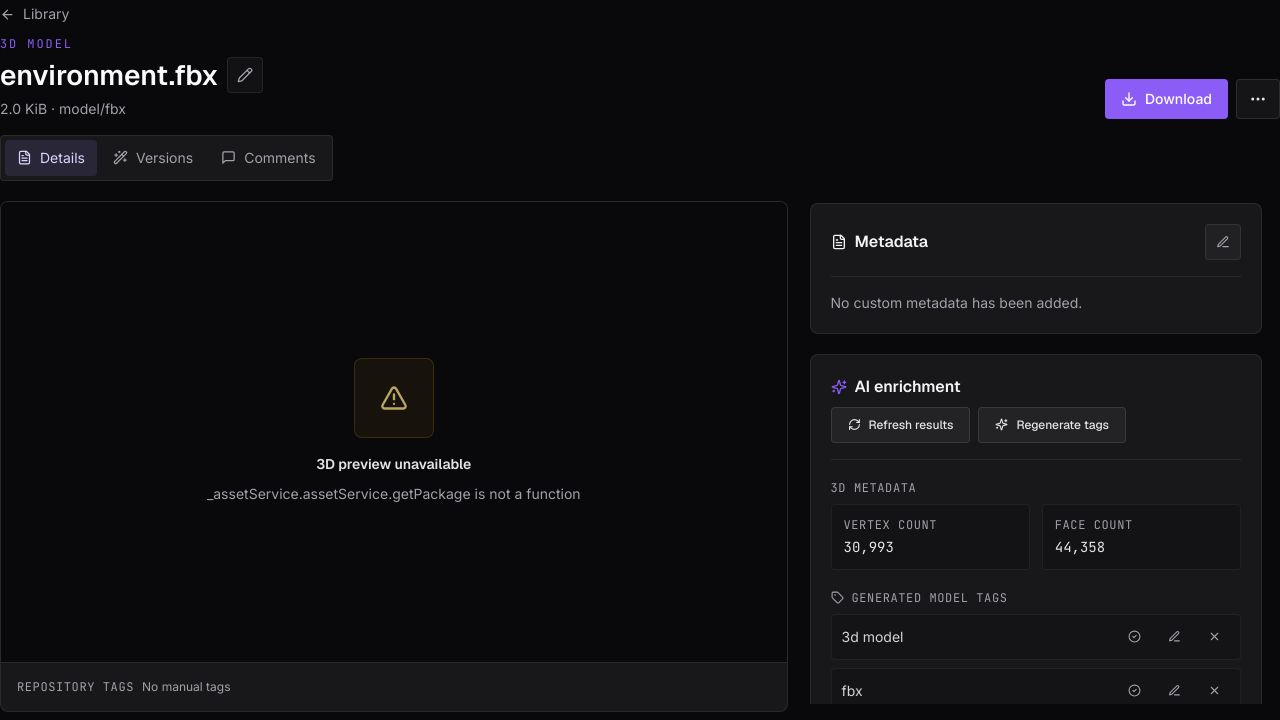
manager deletion requires confirmation; cancel sends nothing and failure stays on the asset
This screenshot has width=1280, height=720.
Click the button named "More actions": click(1258, 98) [1236,78,1279,118]
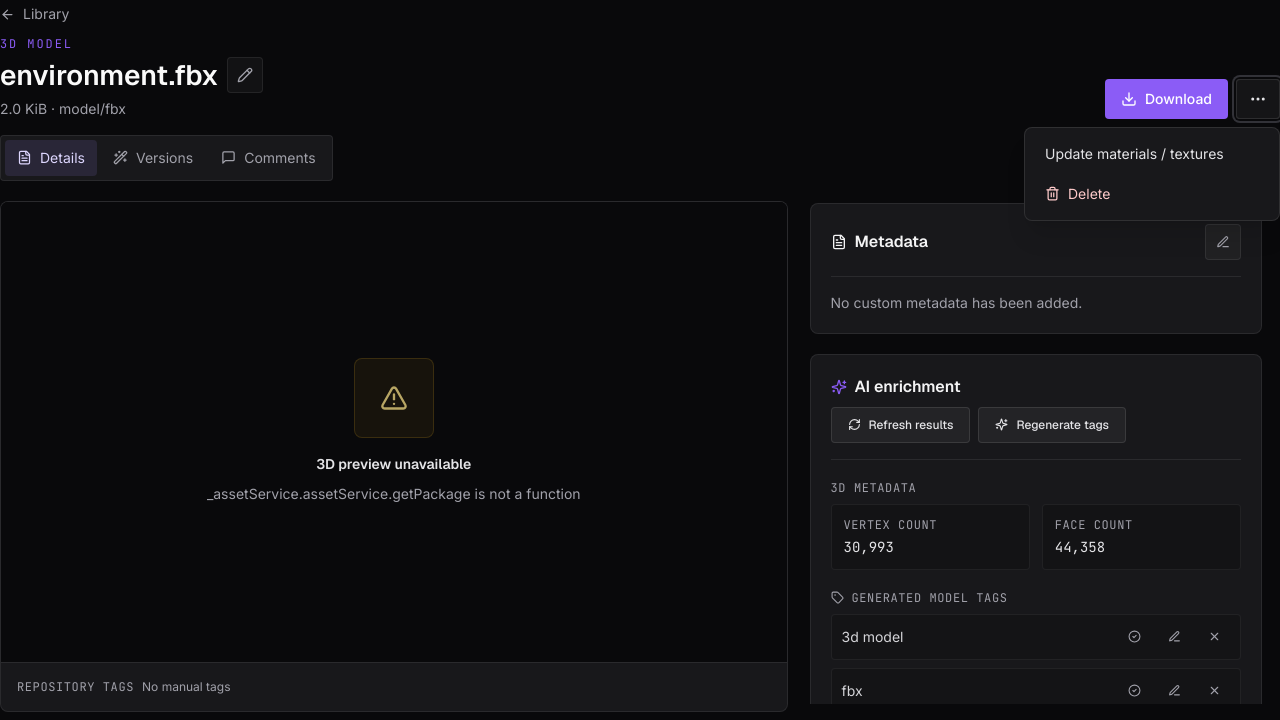
Click the button "Delete": click(1152, 194) [1033,176,1271,212]
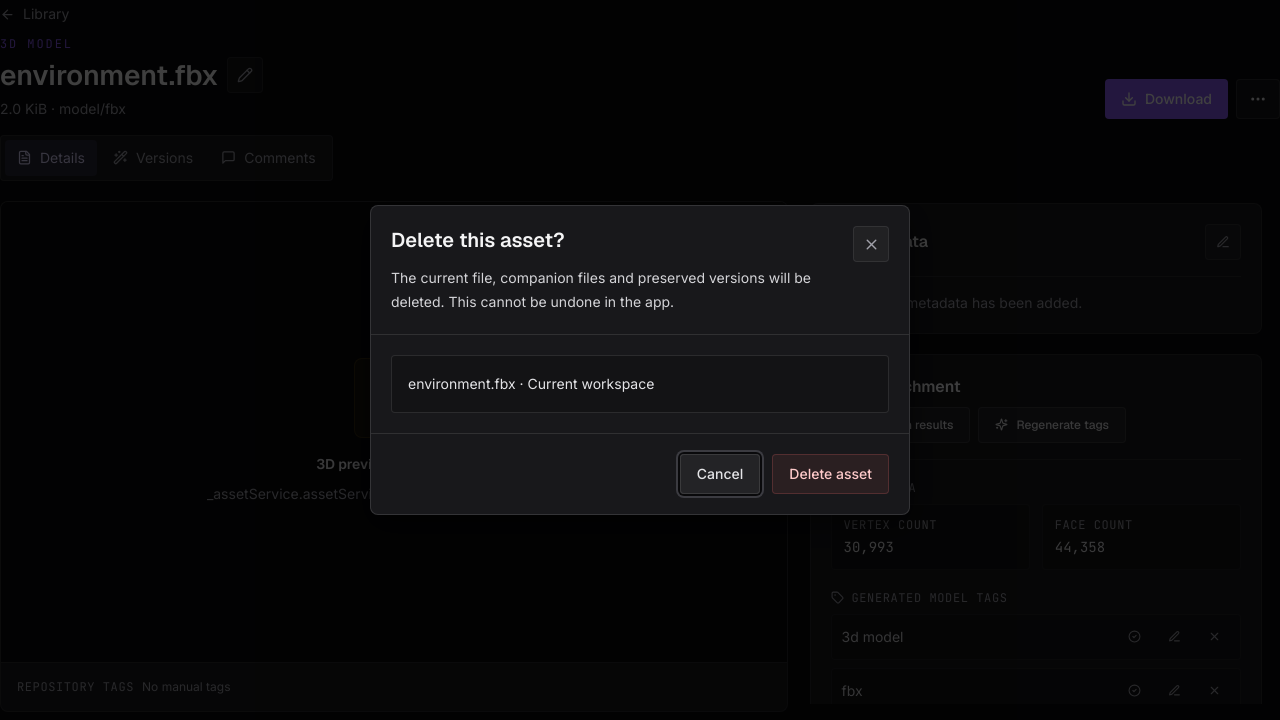
Click the button "Cancel": click(720, 474) [680,454,760,494]
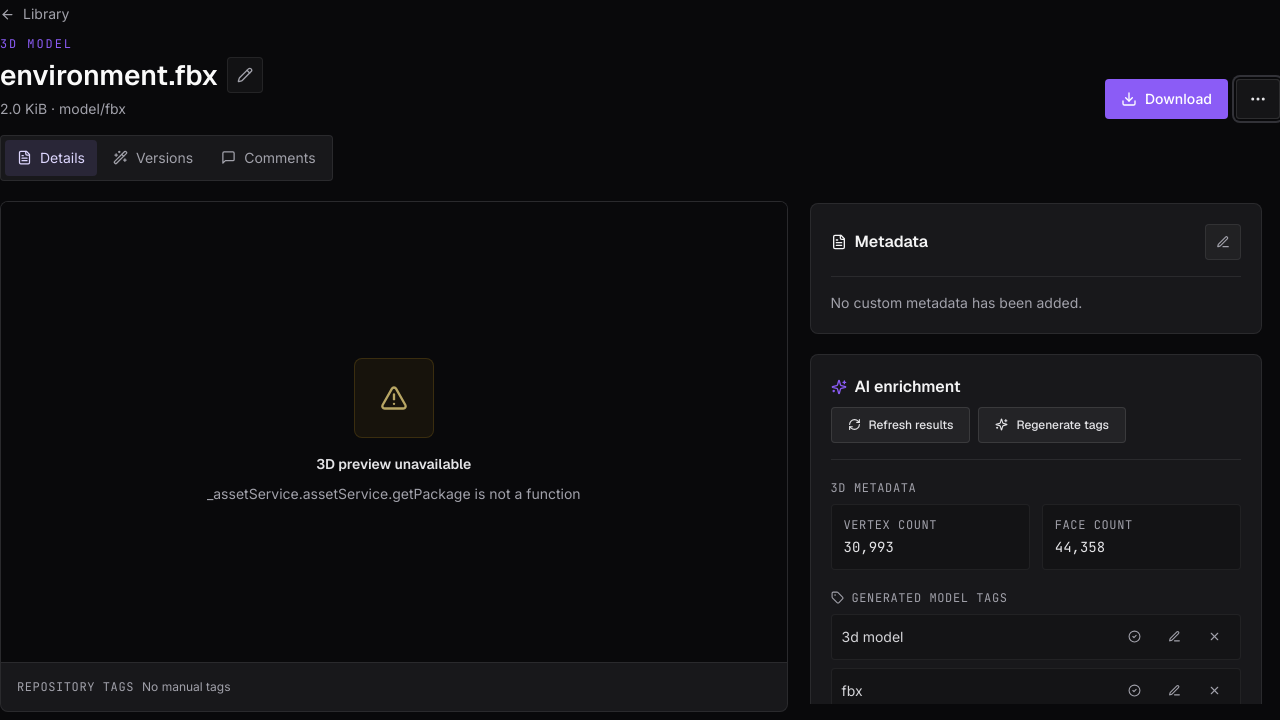
Click the button named "More actions": click(1258, 98) [1236,78,1279,118]
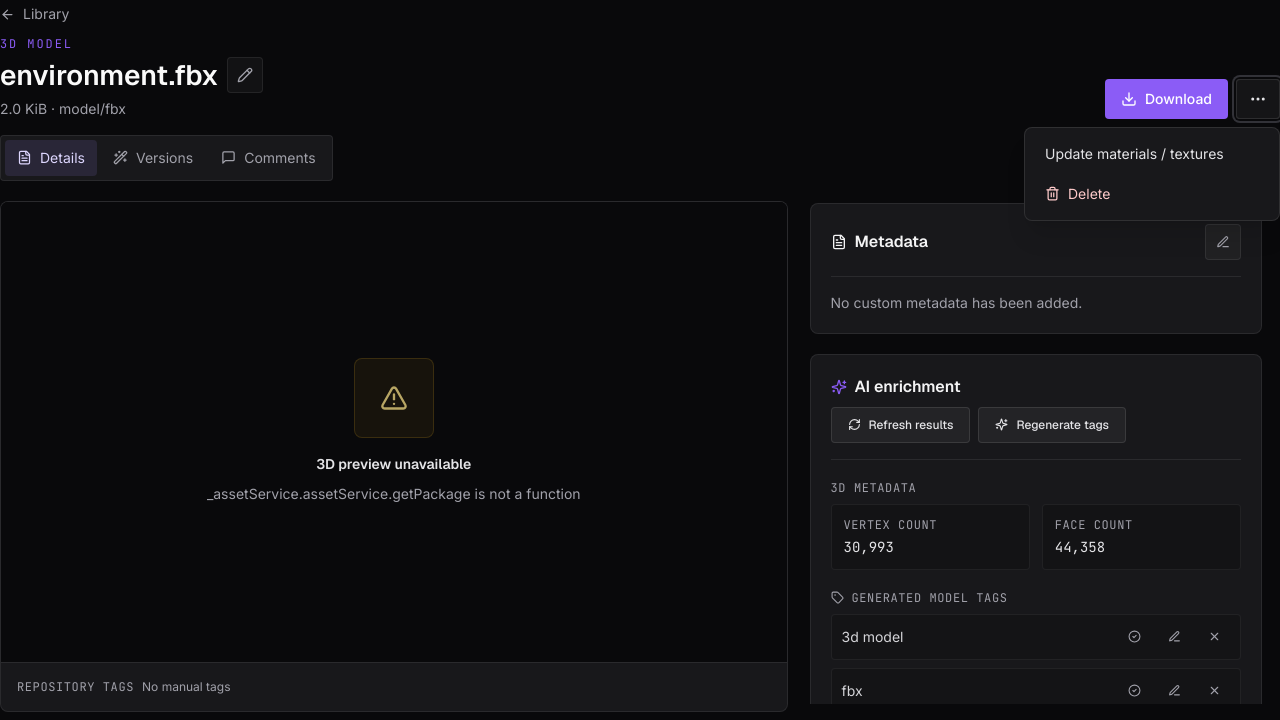
Click the button "Delete": click(1152, 194) [1033,176,1271,212]
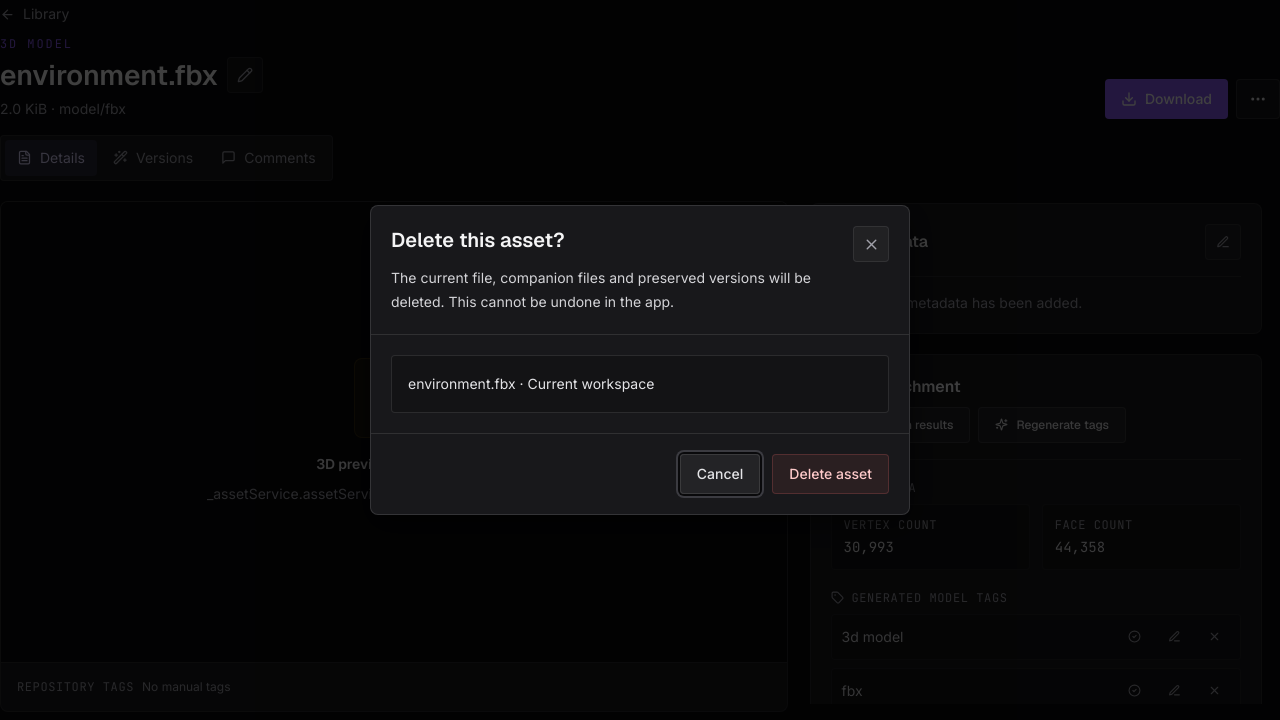
Click the button "Delete asset": click(831, 474) [772,454,889,494]
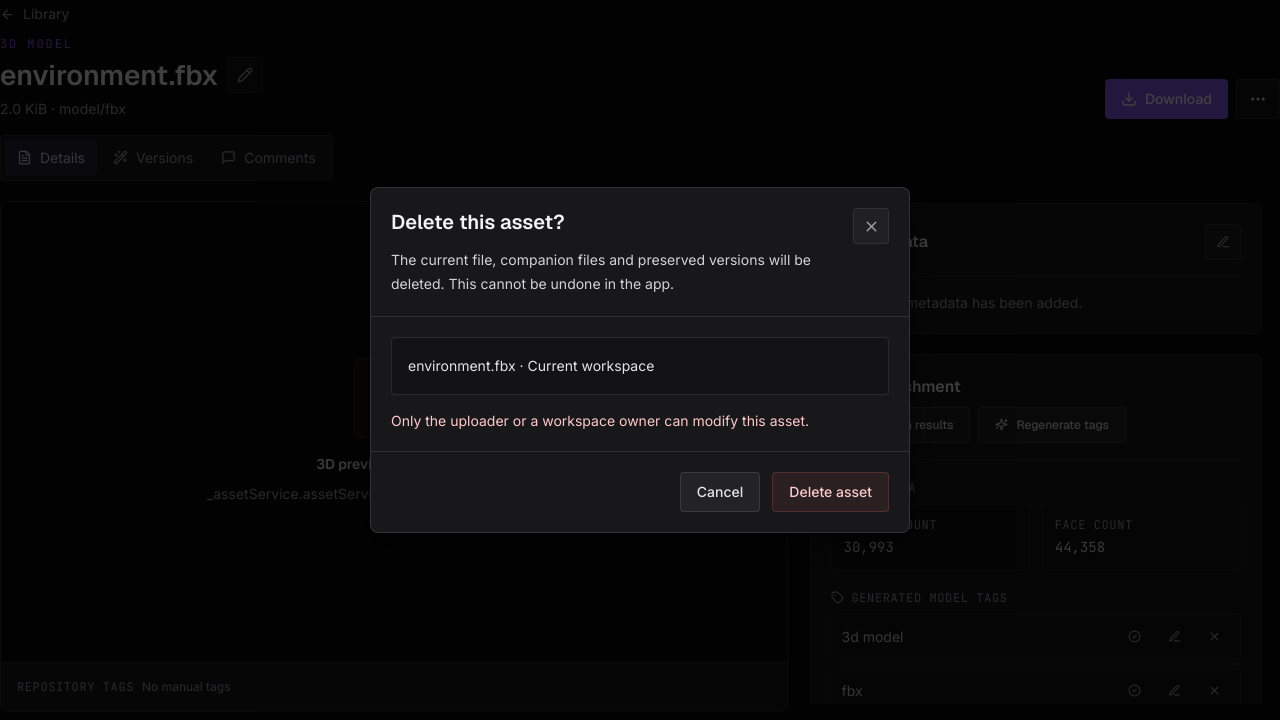
Now the message shows "Only the uploader", box [391,412,809,429]
